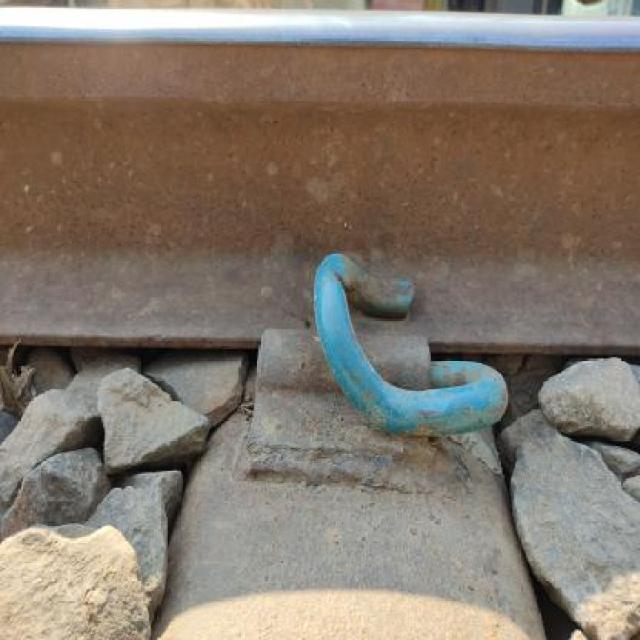non-defective: (9, 0, 638, 438)
